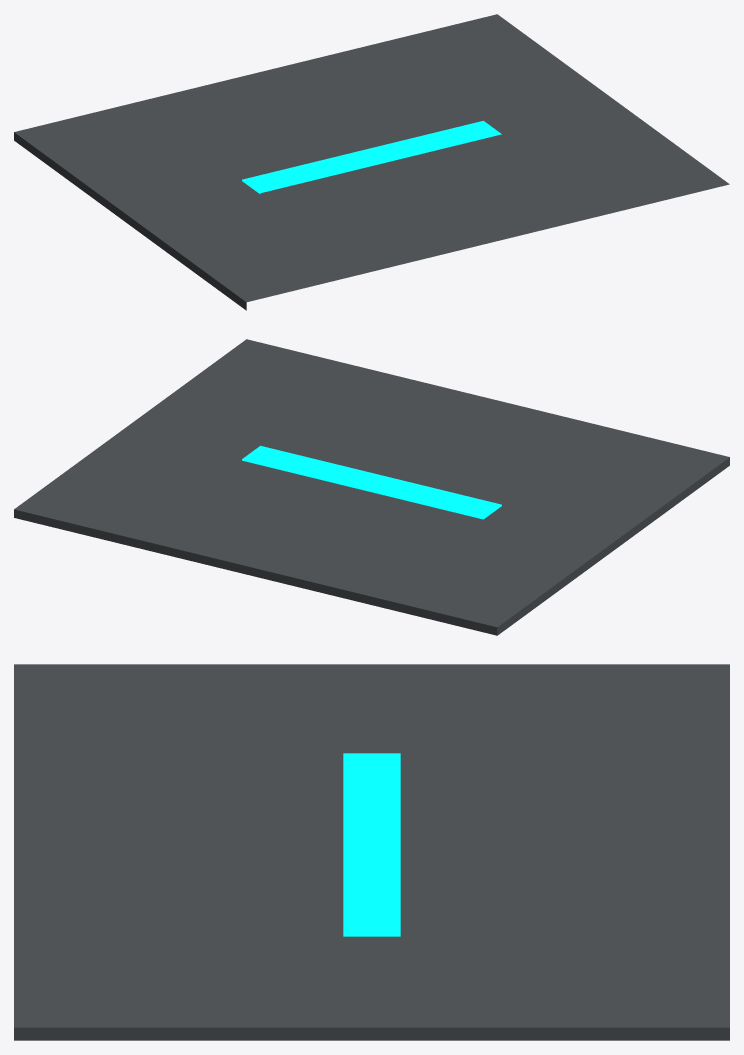
The model's file is sc-garden-lod2.glb.
The picture shows the model from 3 angles, top to bottom: view 1: azimuth 30°, elevation 25°; view 2: azimuth 150°, elevation 25°; view 3: azimuth 270°, elevation 25°; orthographic projection. The views are drawn at different scales.
Parts seen in each view (by area): view 1: sc-garden-lod2; view 2: sc-garden-lod2; view 3: sc-garden-lod2.
Boxes of the visible parts, x1,y1,x2,y2 form: sc-garden-lod2: (14, 14, 729, 310); sc-garden-lod2: (14, 339, 729, 635); sc-garden-lod2: (14, 664, 729, 1040).
Bounding box in the file's own units: 24 × 0.46 × 20.
